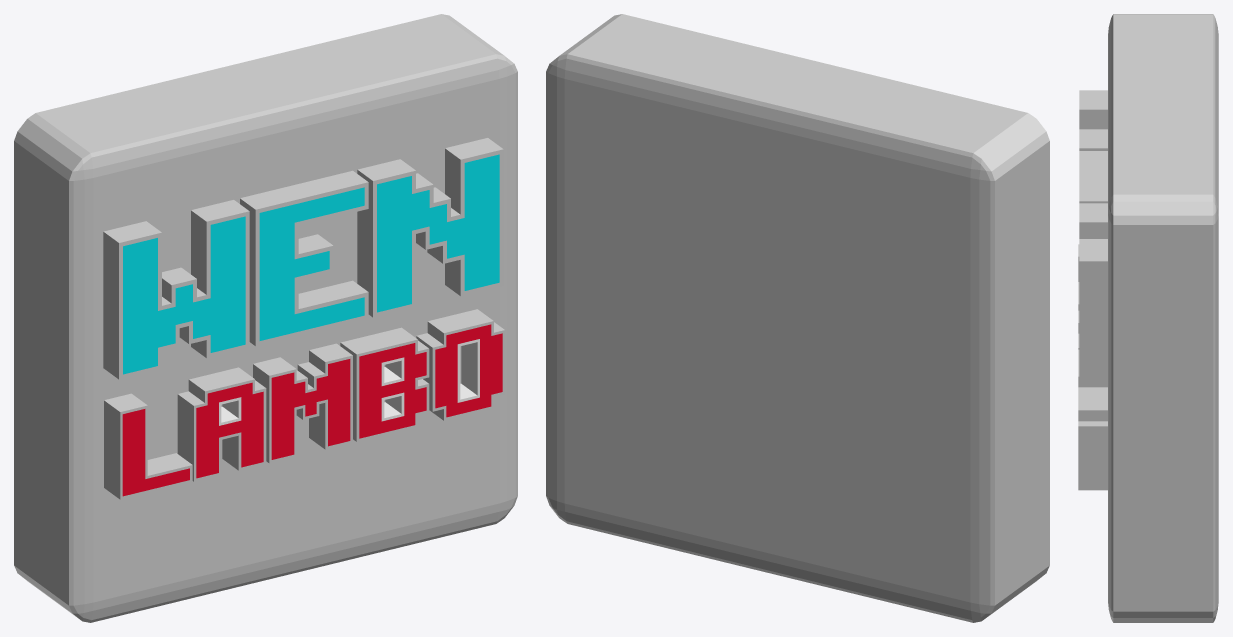
The model's file is WEN-Lambo.glb.
3 views of the same model, side by side, from view 1: azimuth 30°, elevation 25°; view 2: azimuth 150°, elevation 25°; view 3: azimuth 270°, elevation 25° (orthographic). The views are drawn at different scales.
Parts seen in each view (by area): view 1: Cube, Mesh_11.001, Mesh_10.001, Mesh_19, Mesh_18, Mesh_5.004, Mesh_16, Mesh_9.001, Mesh_12.001, Mesh_7.001, Mesh_15, Mesh_17 (+6 smaller); view 2: Cube; view 3: Cube, Mesh_18, Mesh_13.001, Mesh_19, Mesh_16.
Boxes of the visible parts, left/top/right/bottom form: Cube: left=14, top=14, right=517, bottom=622; Mesh_11.001: left=123, top=216, right=245, bottom=374; Mesh_10.001: left=377, top=154, right=499, bottom=312; Mesh_19: left=103, top=200, right=249, bottom=379; Mesh_18: left=357, top=138, right=503, bottom=317; Mesh_5.004: left=259, top=187, right=364, bottom=340; Mesh_16: left=240, top=170, right=368, bottom=346; Mesh_9.001: left=271, top=359, right=350, bottom=459; Mesh_12.001: left=359, top=343, right=426, bottom=438; Mesh_7.001: left=196, top=382, right=263, bottom=478; Mesh_15: left=177, top=367, right=266, bottom=481; Mesh_17: left=253, top=343, right=352, bottom=463; Cube: left=546, top=14, right=1049, bottom=622; Cube: left=1108, top=14, right=1218, bottom=622; Mesh_18: left=1079, top=203, right=1107, bottom=385; Mesh_13.001: left=1078, top=388, right=1107, bottom=490; Mesh_19: left=1079, top=90, right=1107, bottom=150; Mesh_16: left=1079, top=151, right=1107, bottom=203.
Bounding box in the file's own units: 0.0479 × 0.0479 × 0.0142.
